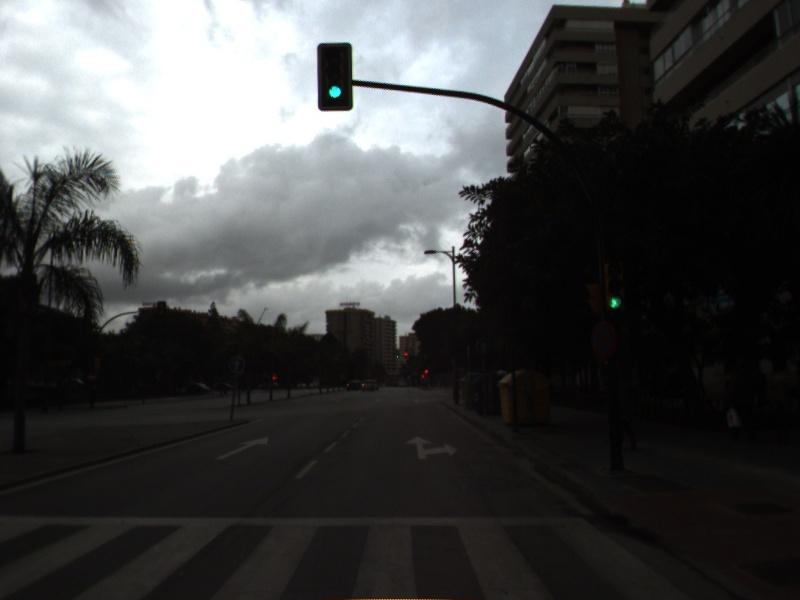STRAIGHT: (212, 434, 271, 462)
STRAIGHT_RIGHT: (403, 433, 461, 462)
